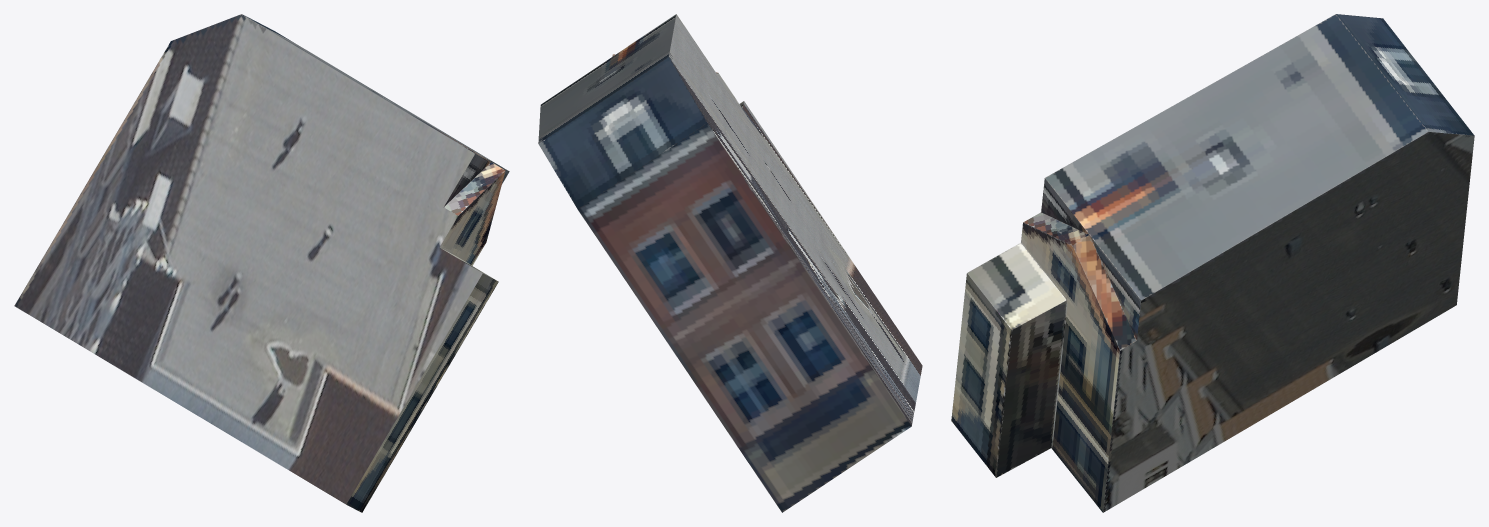
The picture shows the model from 3 angles, left to right: view 1: azimuth 30°, elevation 25°; view 2: azimuth 150°, elevation 25°; view 3: azimuth 270°, elevation 25°; orthographic projection. The views are drawn at different scales.
Parts seen in each view (by area): view 1: BAG_0599100000650087 (×5); view 2: BAG_0599100000650087 (×2); view 3: BAG_0599100000650087 (×4).
Boxes of the visible parts, left/top/right/bottom form: BAG_0599100000650087 (×5): left=14, top=14, right=509, bottom=512; BAG_0599100000650087 (×2): left=538, top=14, right=922, bottom=512; BAG_0599100000650087 (×4): left=951, top=14, right=1474, bottom=512.
Bounding box in the file's own units: 14.51 × 14.16 × 13.44.
1 material, 1 textured.
